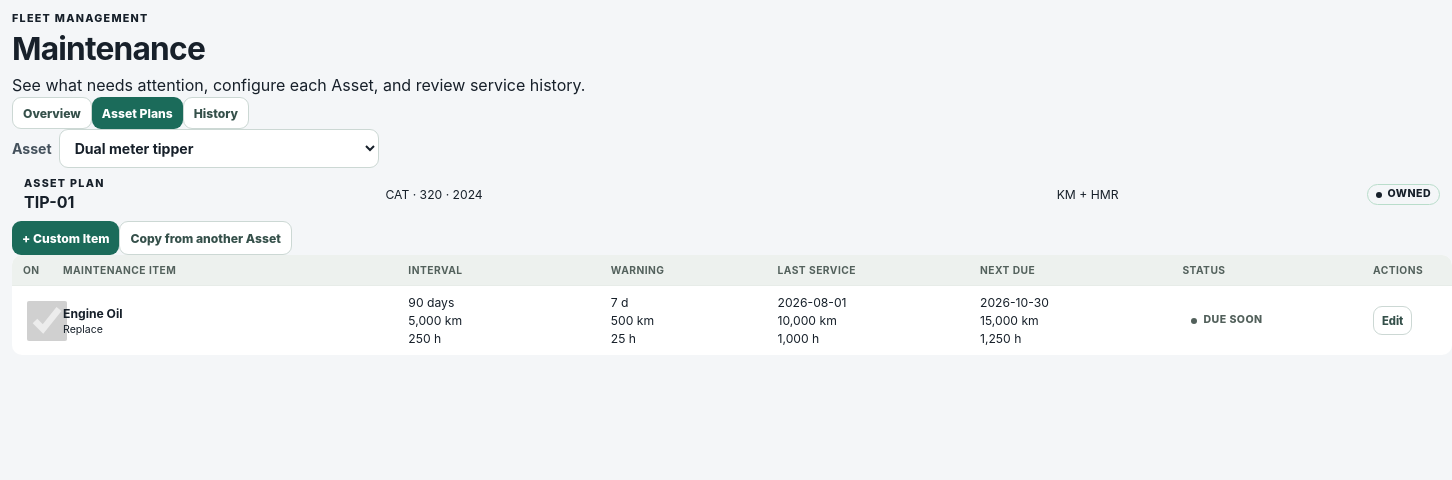
Owner maintenance › previews a copy and keeps a missing source plan error inline
Expected: the text "Asset plan" is shown, [24, 177, 105, 190]
Click the button "Copy from another Asset". click: [206, 238]
box: [120, 221, 292, 255]
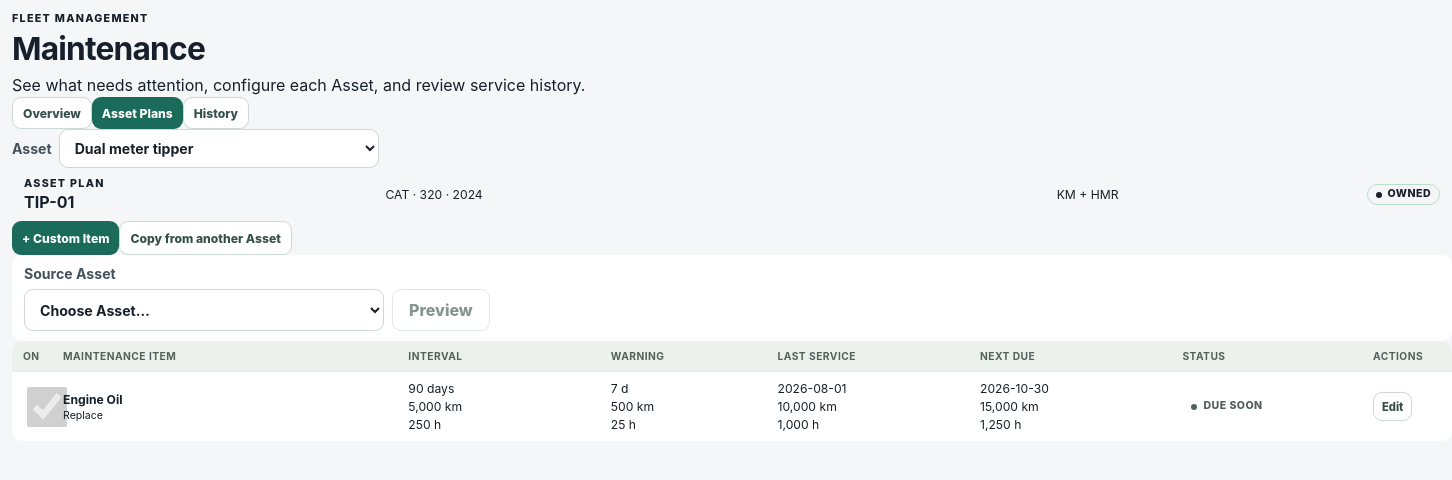
Select "Source tipper" in the dropdown named "Copy maintenance plan from Asset". click: [204, 310]
box: [24, 289, 384, 331]
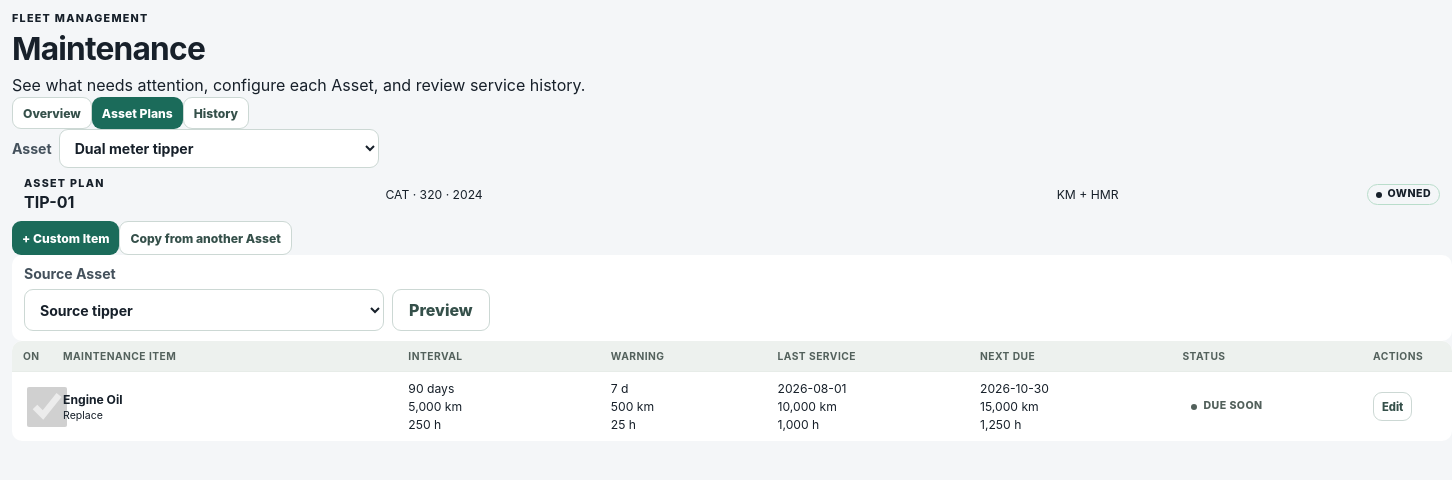
Expected: the text "does not have a maintenance plan" is not shown
Click the button "Preview". click: [441, 310]
box: [392, 289, 490, 331]
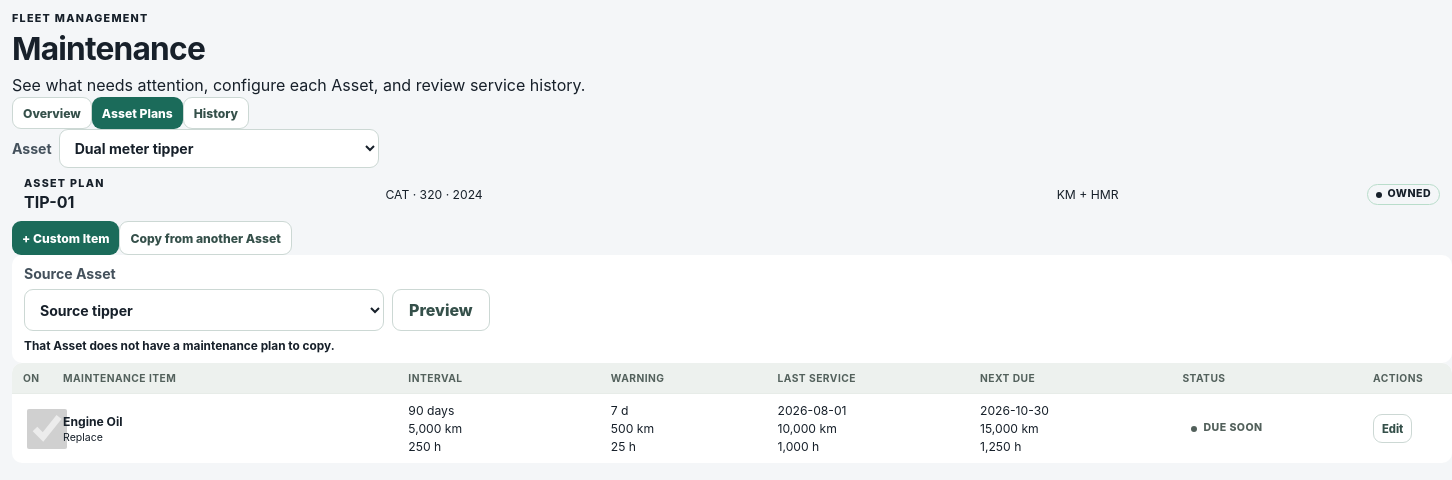
Expected: the text "That Asset does not have a maintenance plan to copy." is shown, [24, 339, 335, 353]
